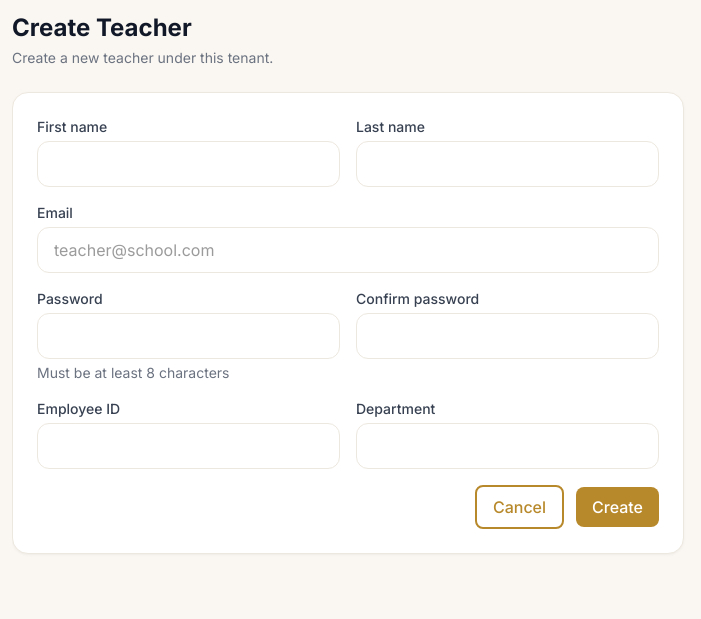
Test: CreateTeacherPage — required field validation › submitting empty form shows "First name is required" error
Click the button "Create" at {"x": 618, "y": 507}, box [576, 487, 659, 527]
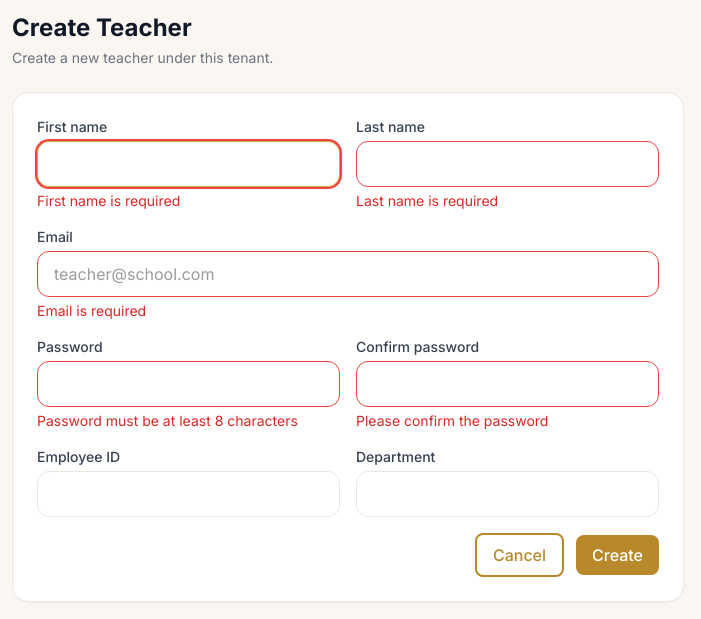
Expected: the text "First name is required" is shown, [37, 192, 180, 209]
